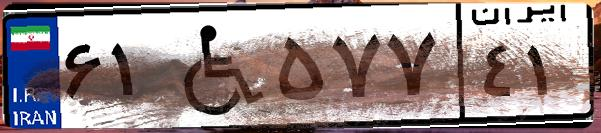1: (525, 38, 570, 115), (110, 28, 158, 98)
4: (475, 38, 525, 113)
5: (270, 28, 330, 110)
6: (57, 26, 110, 100)
7: (385, 28, 445, 110), (330, 28, 385, 110)
ژ (معلولین و جانبازان): (158, 12, 270, 120)
